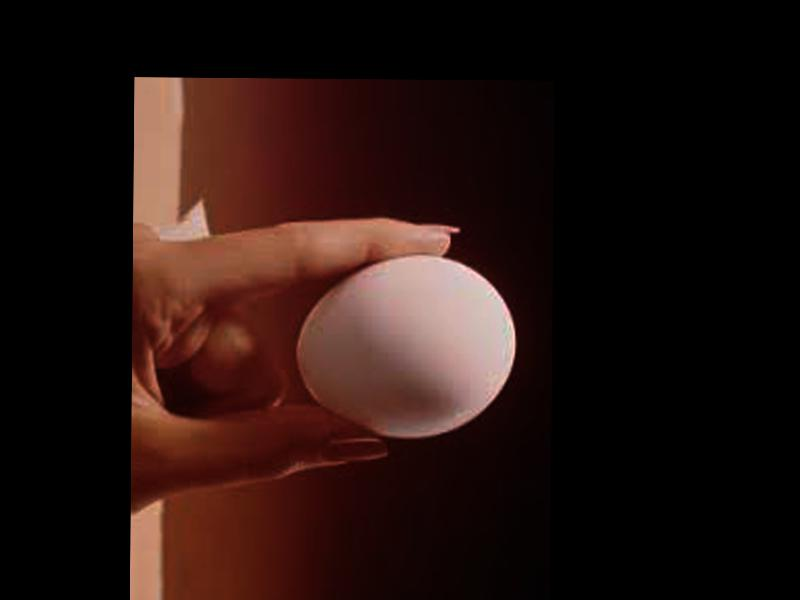Eggs: (294, 251, 517, 440)
